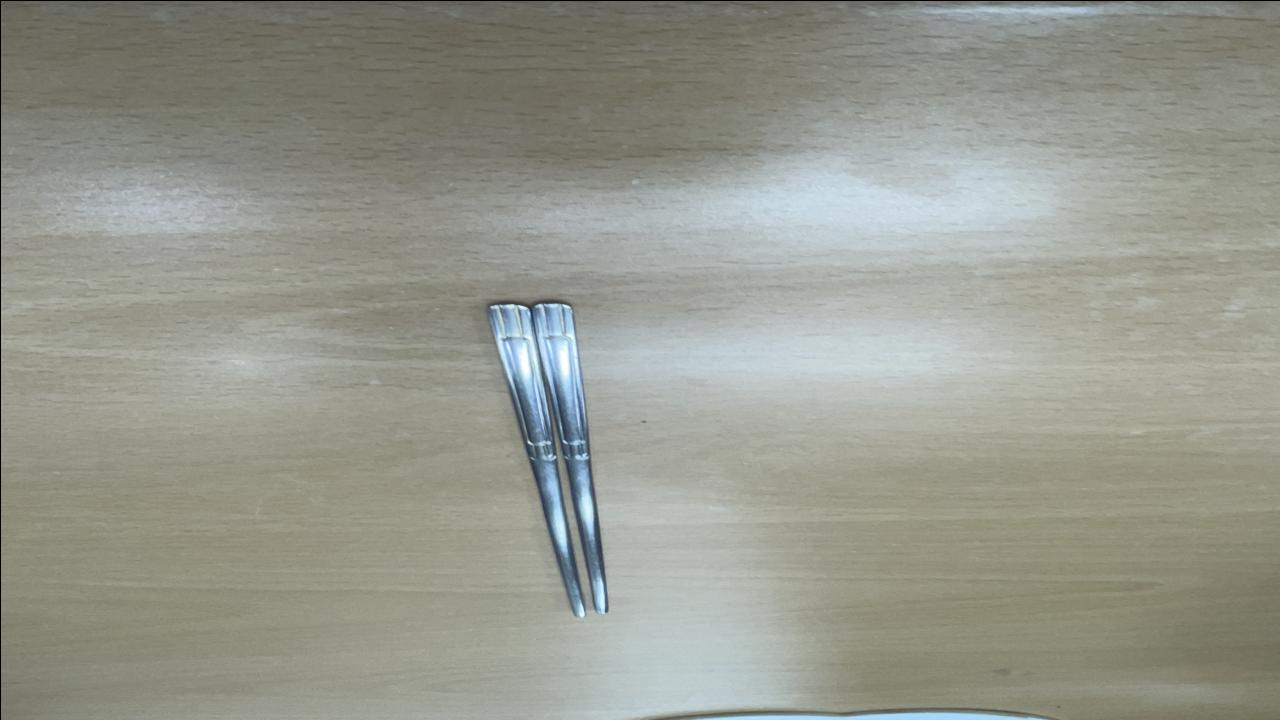chopstick: (478, 298, 617, 618)
